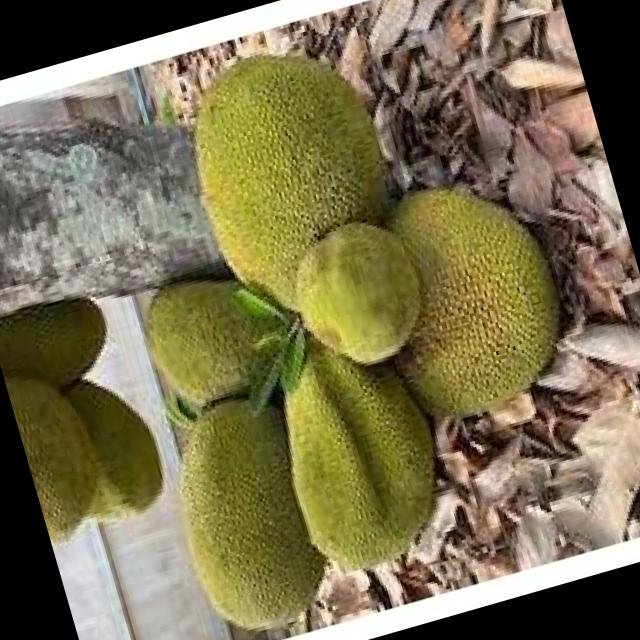Fruit: (200, 133, 612, 490), (150, 10, 444, 361), (147, 320, 475, 629), (138, 377, 341, 640), (0, 334, 131, 571)
